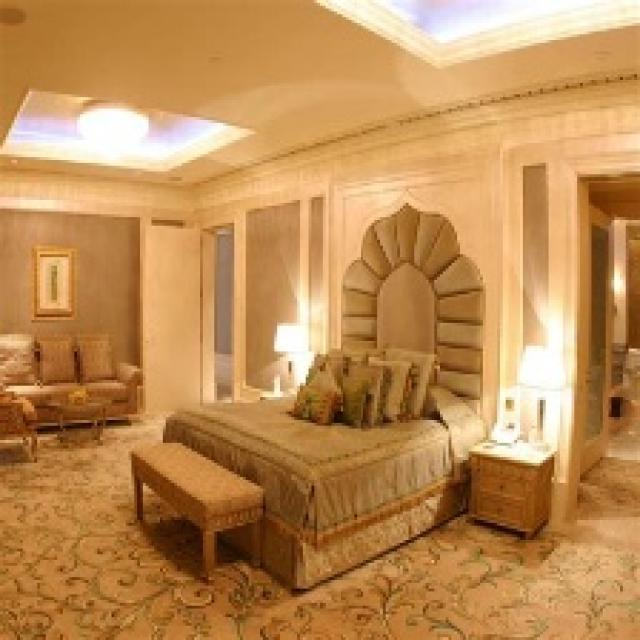Bed: (160, 346, 489, 591)
